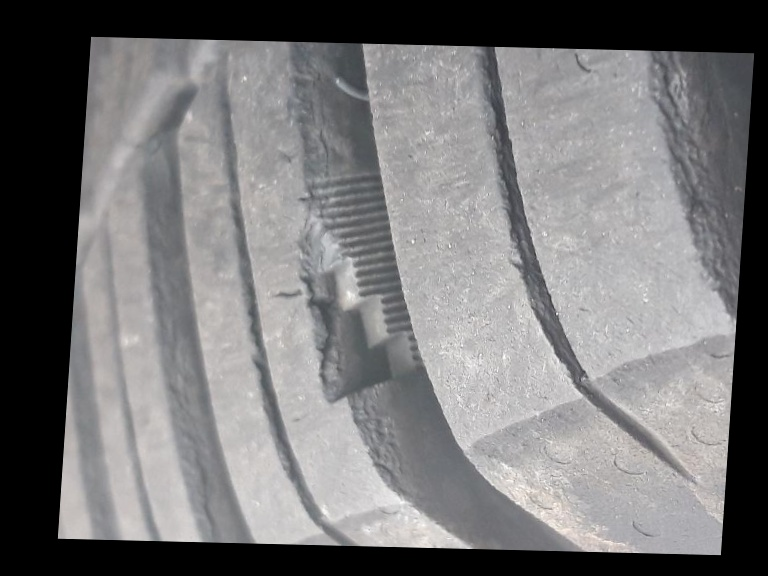temoin:80: (264, 165, 449, 420)
